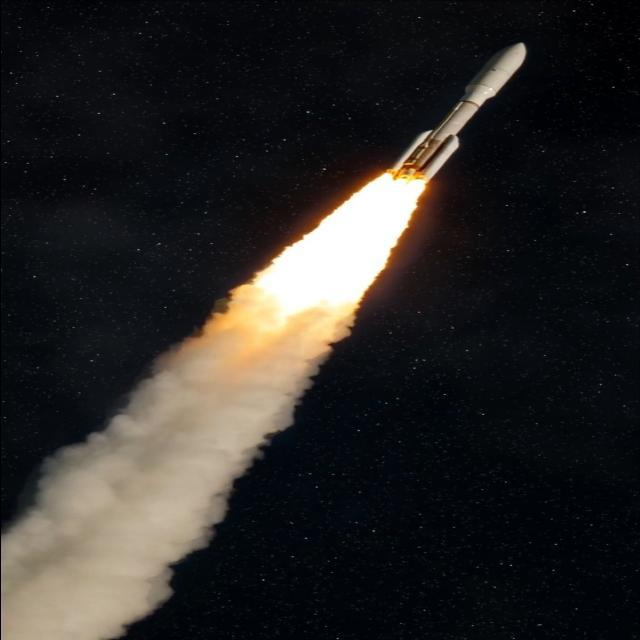missile: (384, 34, 540, 184)
